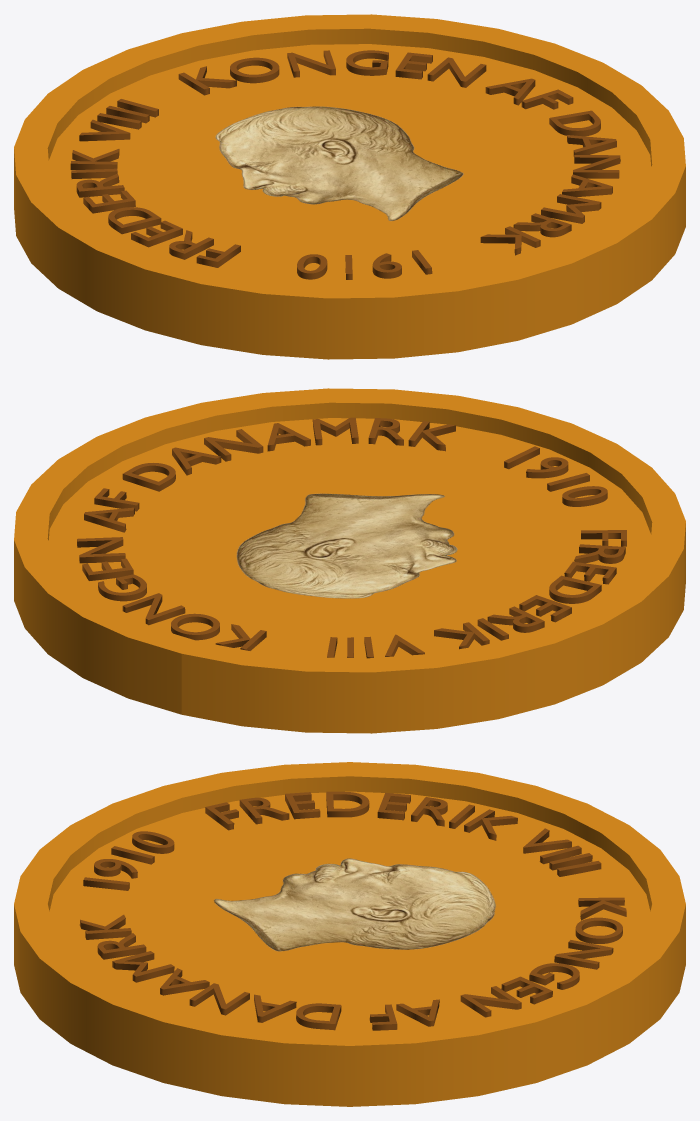
The model's file is Frederik10.glb.
3 renders of one model, top to bottom at view 1: azimuth 30°, elevation 25°; view 2: azimuth 150°, elevation 25°; view 3: azimuth 270°, elevation 25°, orthographic.
Parts seen in each view (by area): view 1: Frederikd10; view 2: Frederikd10; view 3: Frederikd10.
Part boxes in pixels (<box>): Frederikd10: <box>14,14,685,359</box>; Frederikd10: <box>14,388,685,733</box>; Frederikd10: <box>14,762,685,1106</box>.
Bounding box in the file's own units: 2 × 0.2 × 2.
Materials: 3 (1 with a texture image).
